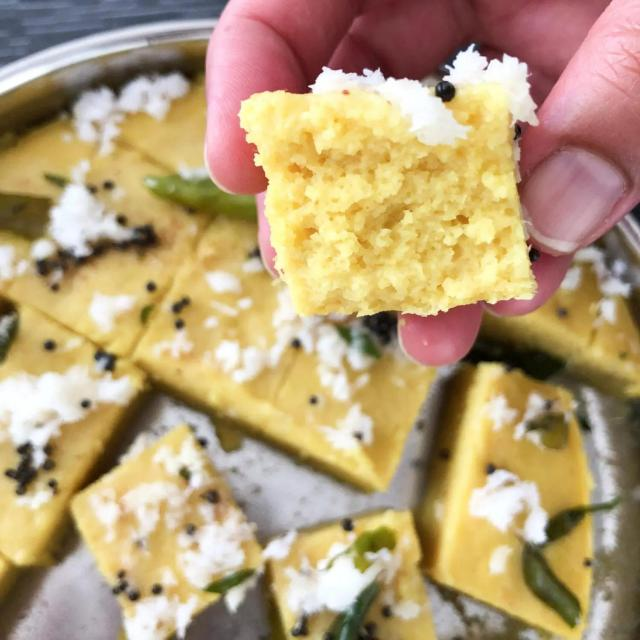dhokla: (11, 93, 608, 635), (237, 63, 572, 343)
